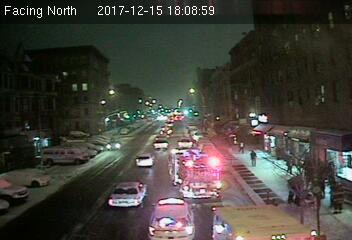car: (106, 181, 147, 207), (135, 152, 157, 167), (153, 137, 169, 149), (106, 140, 122, 149), (178, 138, 193, 147)
pedestrian: (249, 147, 259, 172)
police: (148, 198, 197, 240)
truck: (169, 149, 223, 202)
